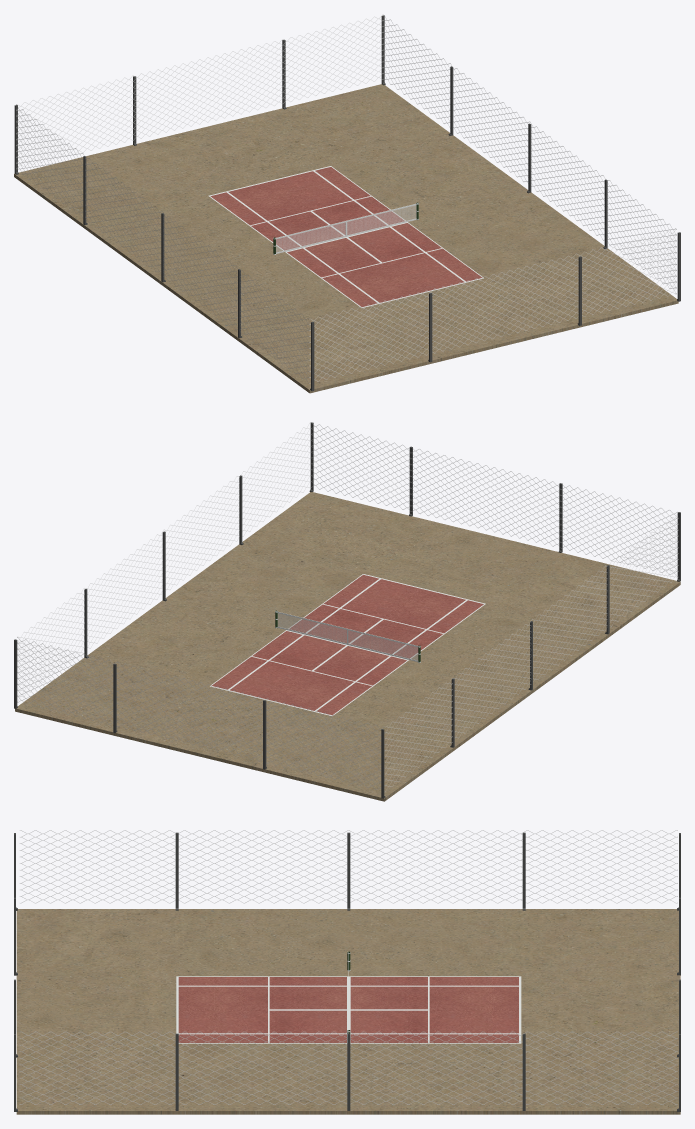
The model's file is tennis.glb.
3 views of the same model, one above another, from view 1: azimuth 30°, elevation 25°; view 2: azimuth 150°, elevation 25°; view 3: azimuth 270°, elevation 25° (orthographic). The views are drawn at different scales.
Parts seen in each view (by area): view 1: pPlane1, pCube5, pPlane2; view 2: pPlane1, pCube5, pPlane2; view 3: pPlane1, pCube5, pCube1, pCube3, pCube2.
Boxes of the visible parts, x1=… form: pPlane1: x1=14, y1=84, x2=678, y2=393; pCube5: x1=16, y1=14, x2=676, y2=383; pPlane2: x1=276, y1=205, x2=416, y2=252; pPlane1: x1=15, y1=492, x2=680, y2=801; pCube5: x1=17, y1=422, x2=678, y2=791; pPlane2: x1=277, y1=613, x2=417, y2=660; pPlane1: x1=16, y1=909, x2=680, y2=1114; pCube5: x1=19, y1=830, x2=677, y2=1104; pCube1: x1=347, y1=832, x2=350, y2=1110; pCube3: x1=175, y1=832, x2=178, y2=1110; pCube2: x1=522, y1=832, x2=525, y2=1110.
Size of the model in its own units: 0.2782 by 0.0528 by 0.3869.
7 materials, 4 textured.
